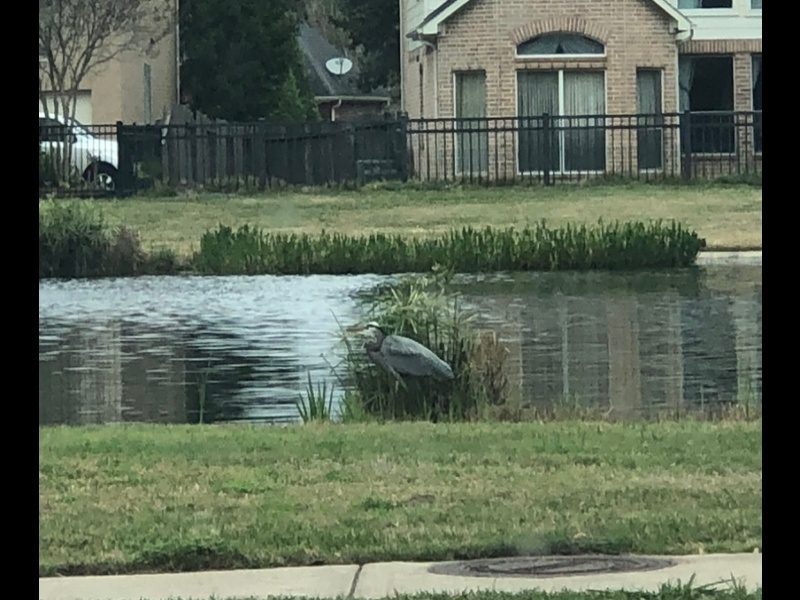heron: (342, 321, 460, 431)
